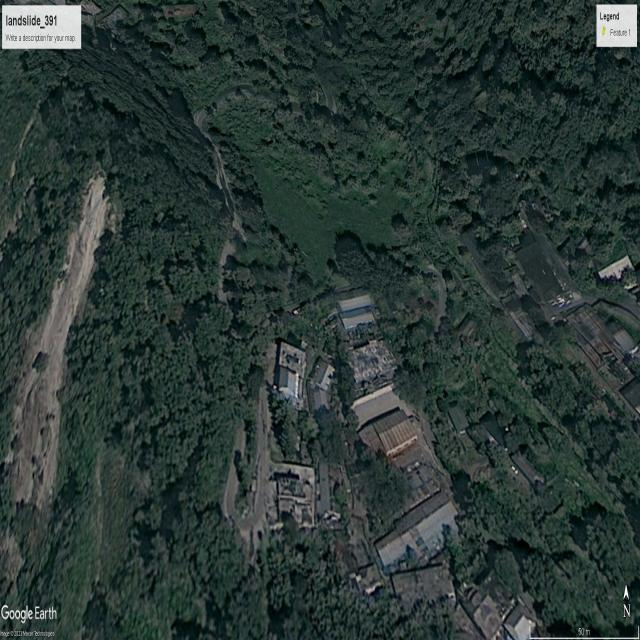Landslide: (9, 170, 113, 520)
